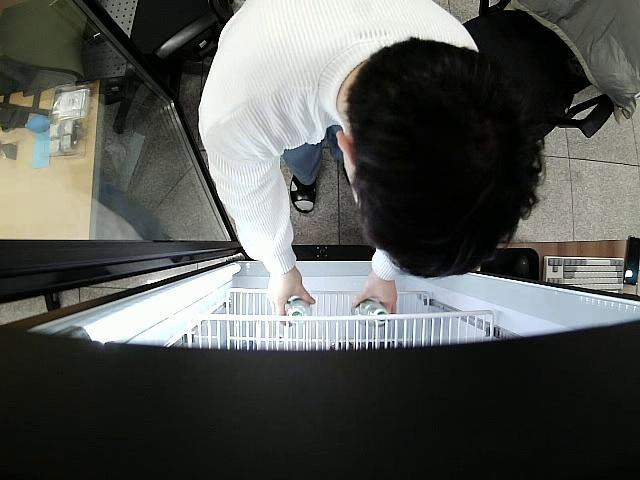18_trevi: (354, 298, 390, 328), (285, 298, 313, 329)
